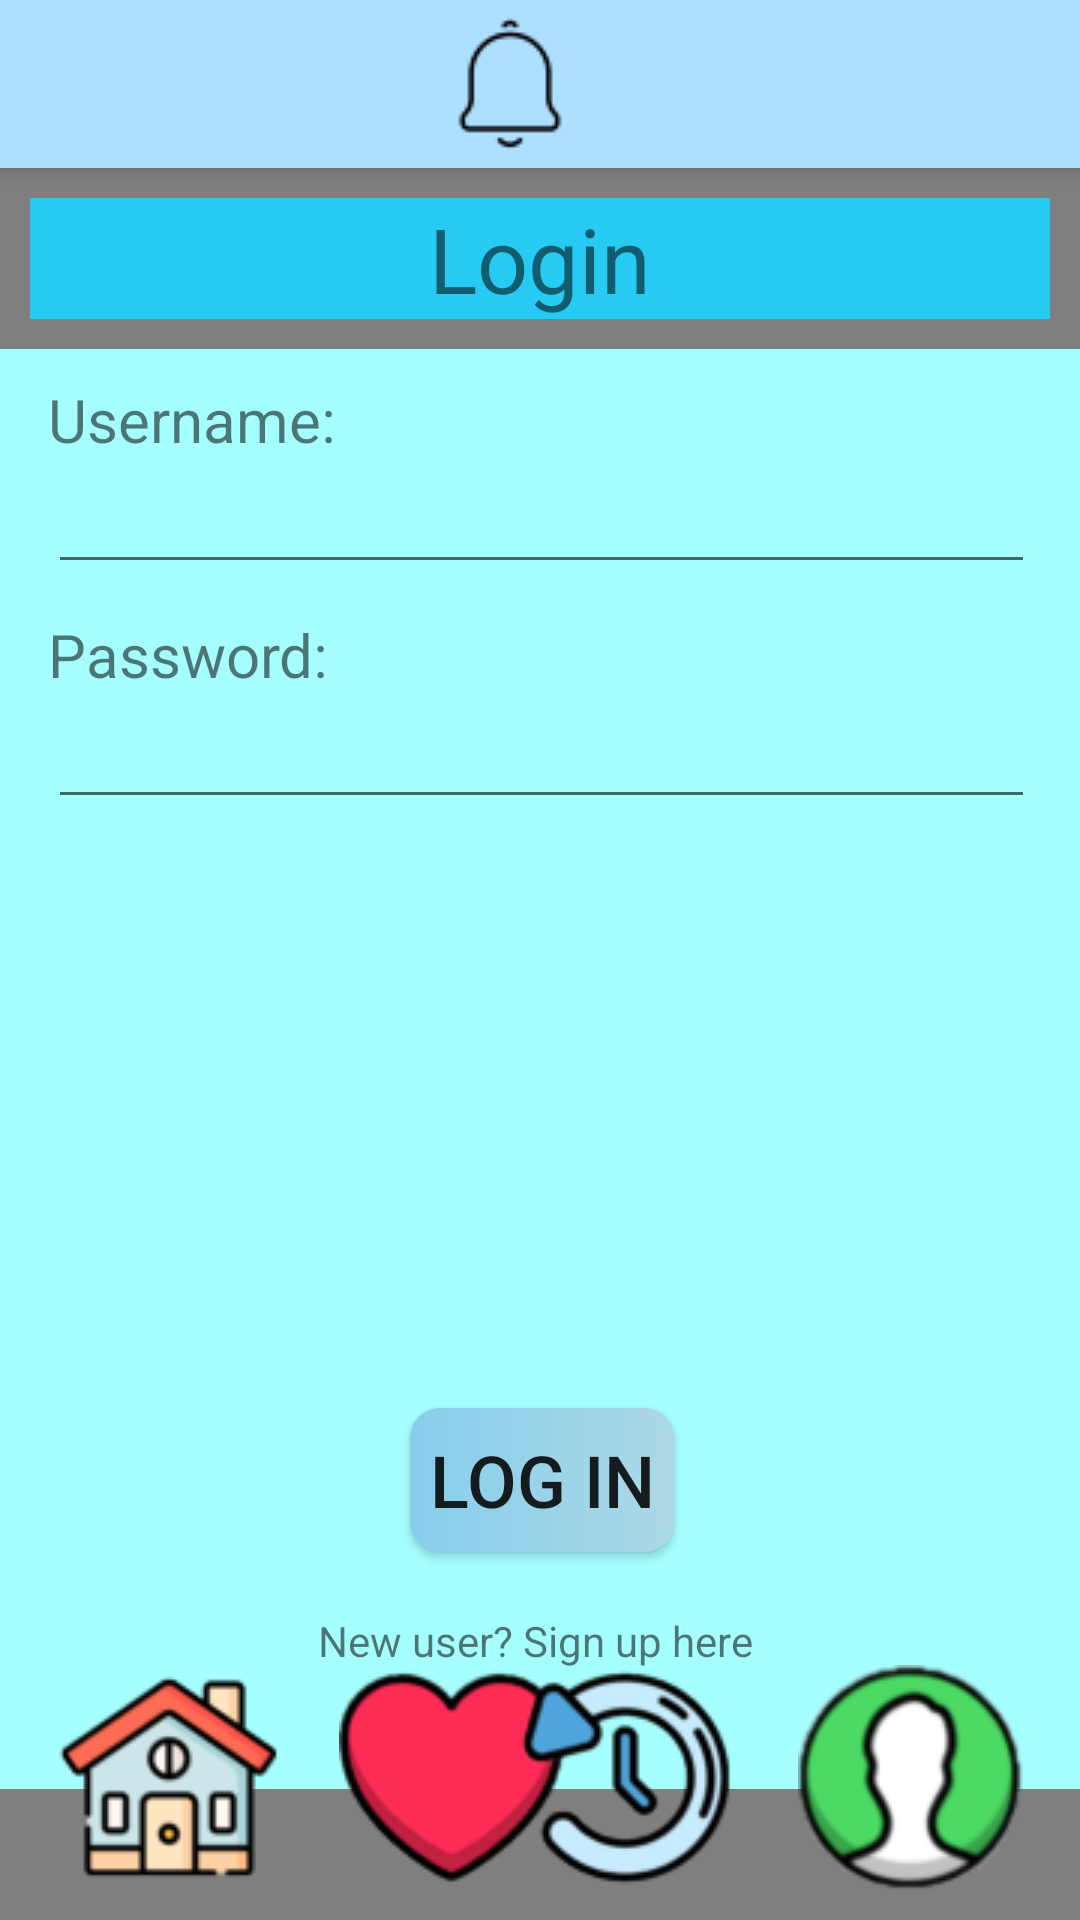

Icon click points for this 1080w x 1920h phone screenshot, format (x,y):
heart: (451,1777)
history: (628,1777)
home: (169,1777)
notification: (510,83)
profile: (910,1777)
